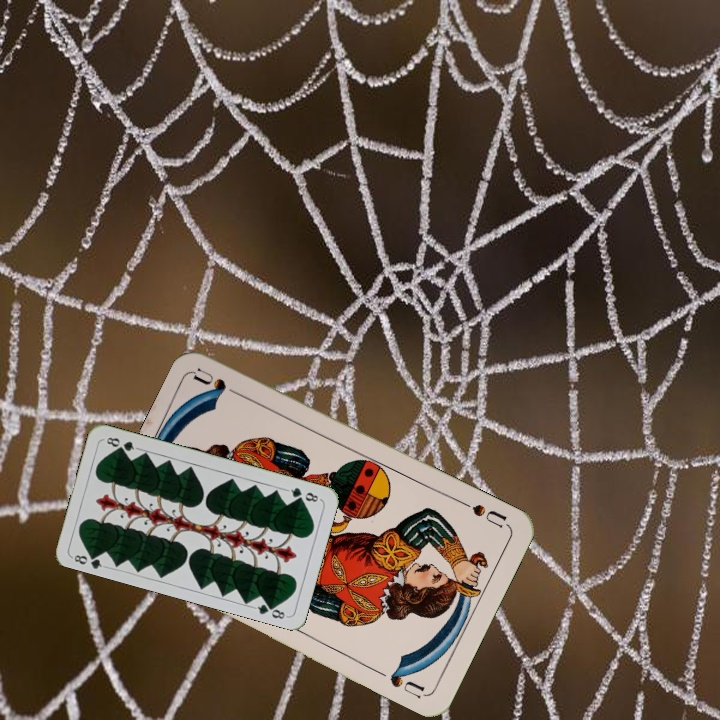G8: (68, 548, 108, 571), (283, 483, 323, 505)
SU: (455, 496, 510, 531)
